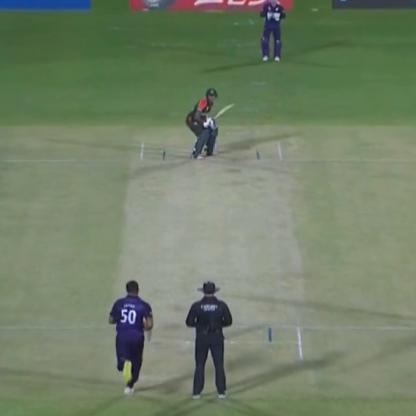bat: (210, 103, 240, 120)
pitch: (116, 136, 310, 374)
